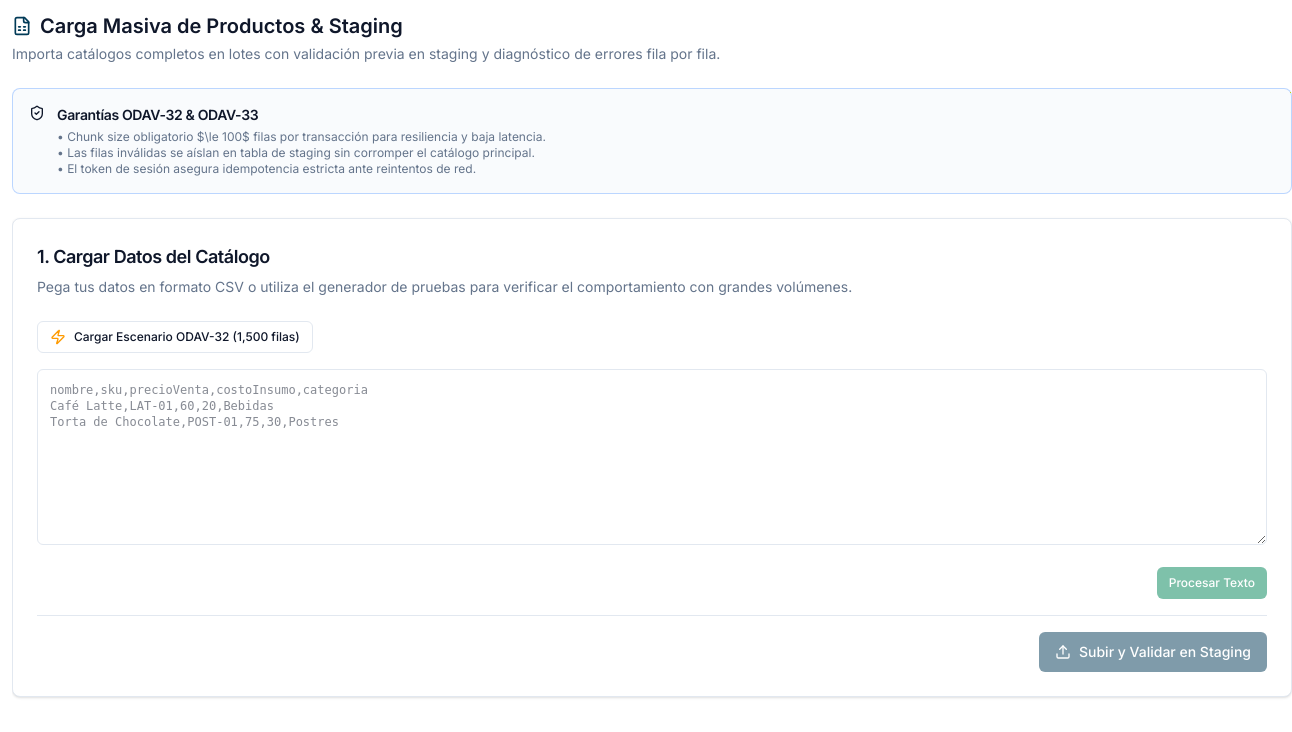
W9 — Settings & Onboarding Components (TDD & Component Tests) › BulkImportWizard (ODAV-32 & ODAV-33) › parses client-onboarding plantilla_productos.csv headers flawlessly
Replace the text in the text box with test id "raw-csv-textarea" with "nombre,precio_venta,unidad_venta,es_preparado,categoria,sku,tiene_variantes Espresso Sencillo,30.00,unidad,true,Bebidas Calientes,ESS01,false Cappuccino 12oz,45.00,unidad,true,Bebidas Calientes,CAP12,". click: (652, 457)
box: 37,369 -> 1267,545
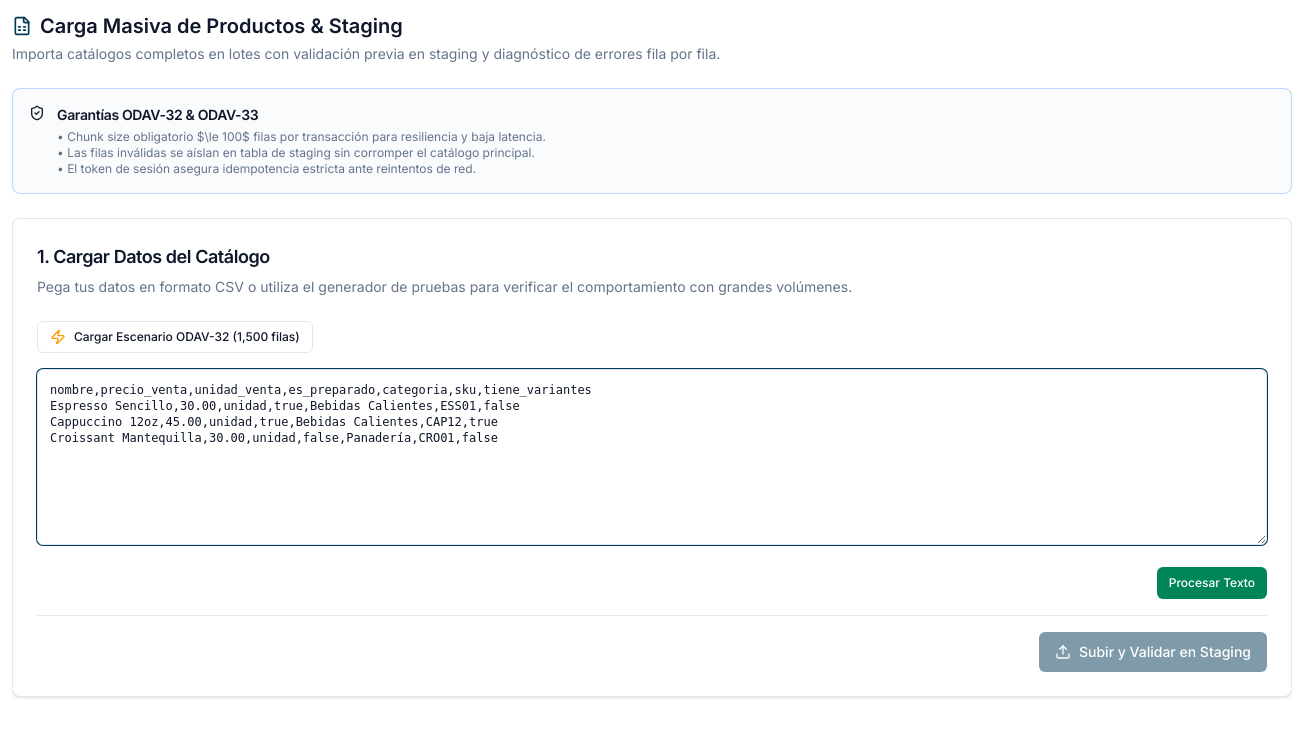
Click the button "Procesar Texto". click: (1212, 583)
box: 1157,567 -> 1267,599
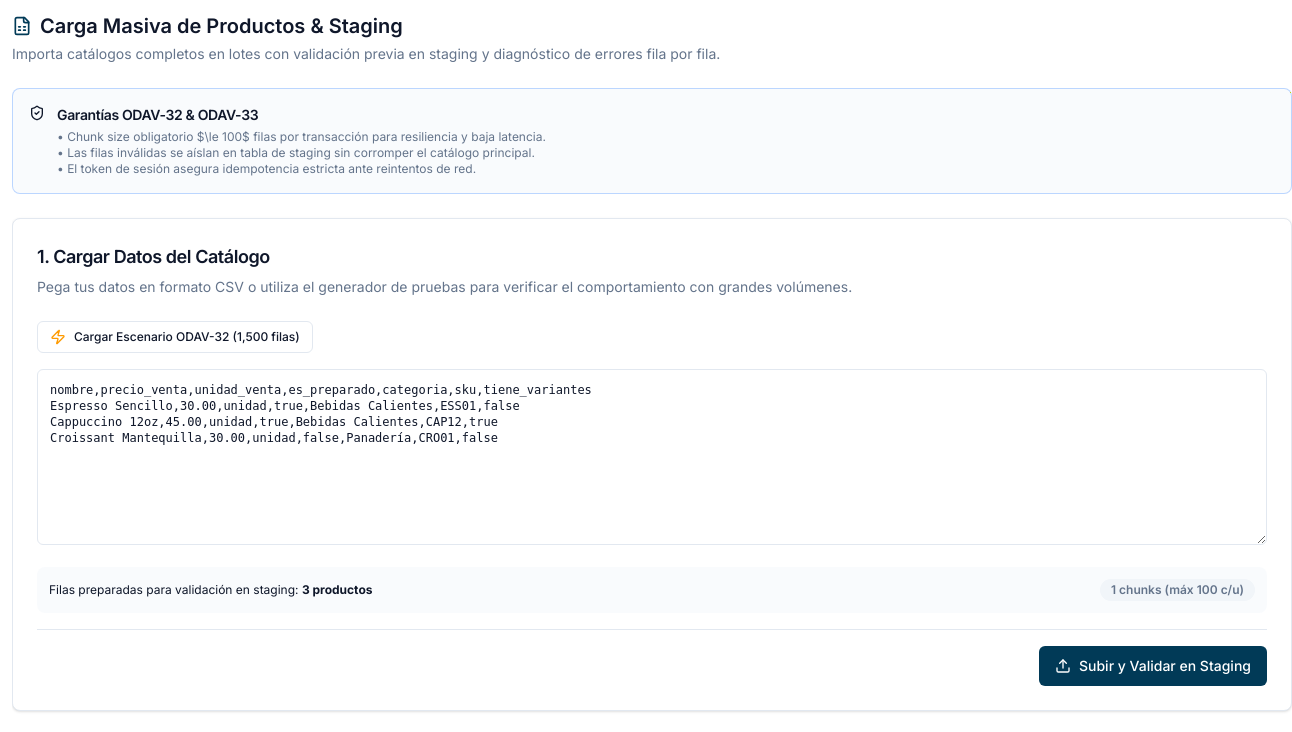
Check: the text "3 productos" is shown, box 302,582 -> 372,597
